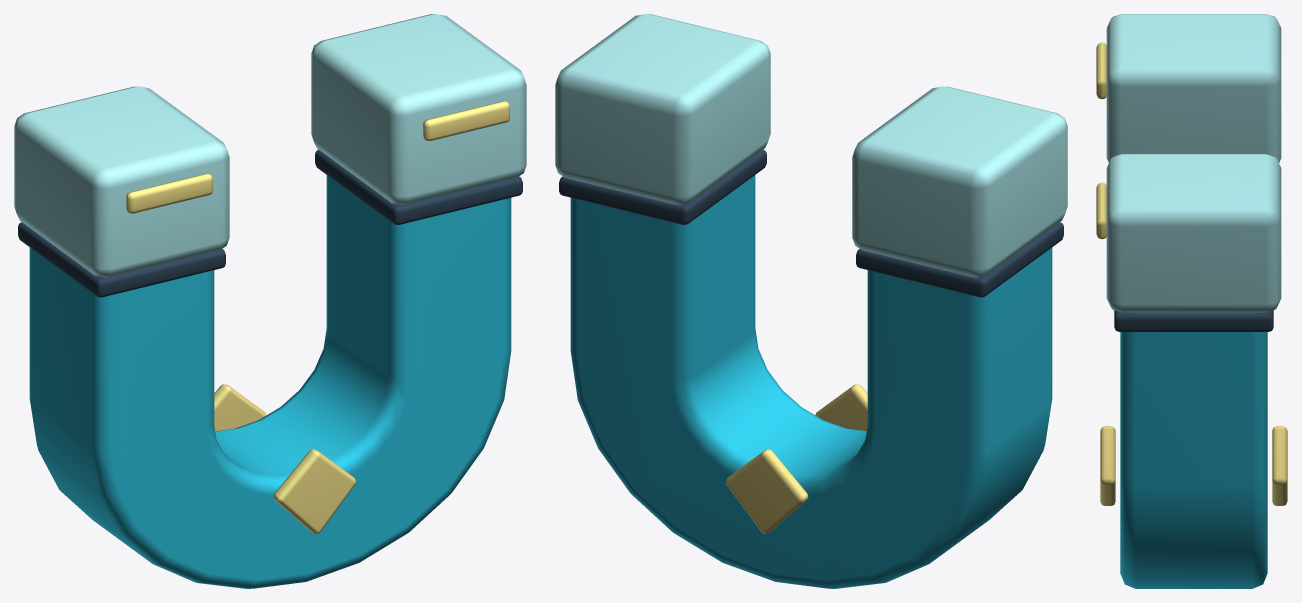
The model's file is magnet.glb.
3 views of the same model, side by side, from view 1: azimuth 30°, elevation 25°; view 2: azimuth 150°, elevation 25°; view 3: azimuth 270°, elevation 25° (orthographic). The views are drawn at different scales.
Parts seen in each view (by area): view 1: pickup_magnet; view 2: pickup_magnet; view 3: pickup_magnet.
Boxes of the visible parts, <box> form: pickup_magnet: <box>14,14,526,588</box>; pickup_magnet: <box>555,14,1067,588</box>; pickup_magnet: <box>1096,14,1287,588</box>.
Size of the model in its own units: 0.79 by 0.815 by 0.3115.
Materials: 1 (1 with a texture image).
